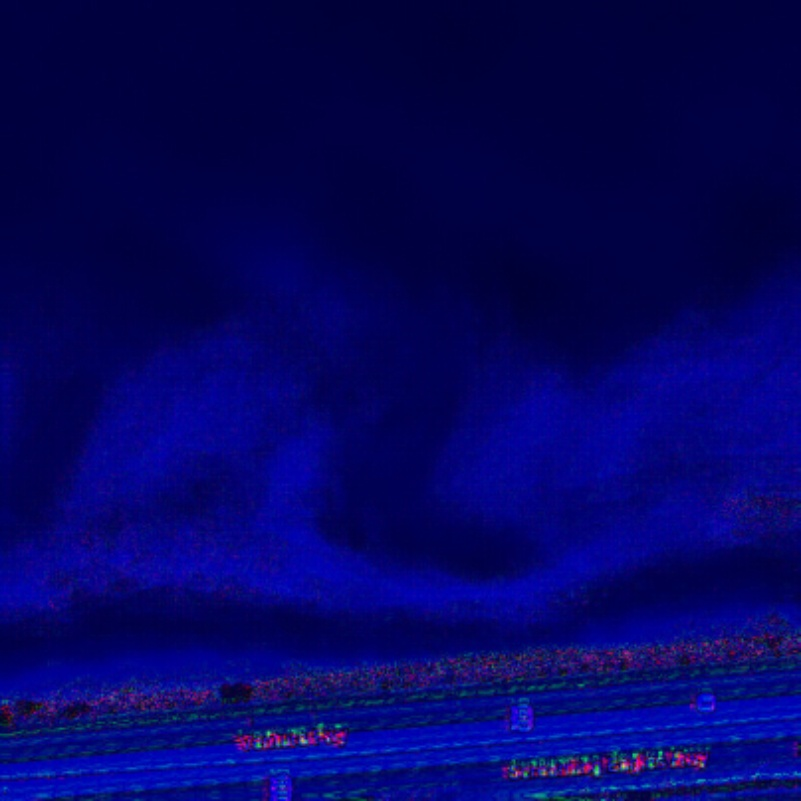rip_current: (255, 219, 548, 591)
